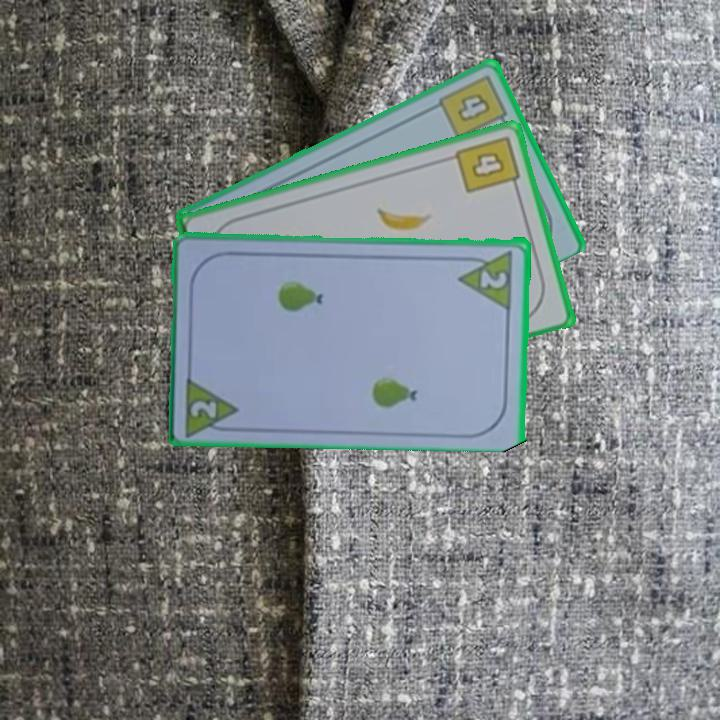2p: (476, 266, 510, 291), (187, 397, 220, 421)
4b: (435, 71, 512, 142), (451, 131, 523, 196)
